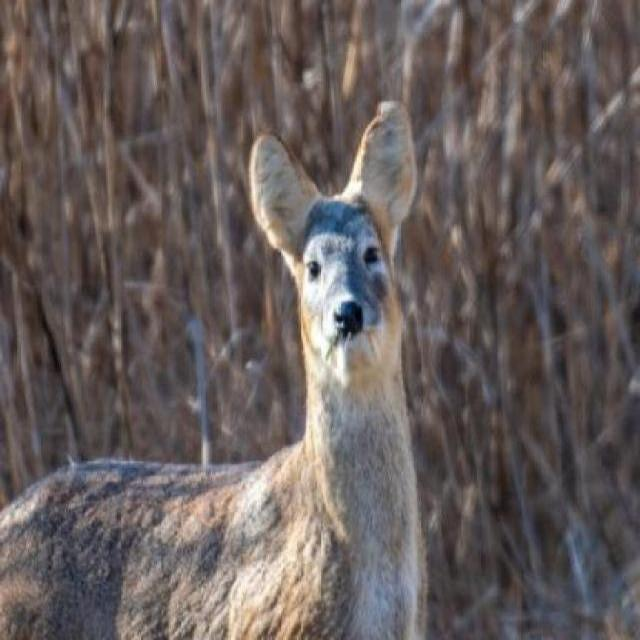deer: (0, 90, 432, 639)
